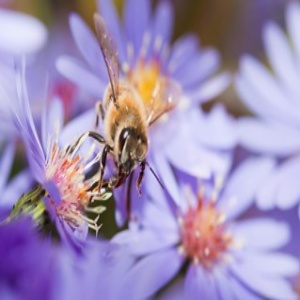bee: (87, 11, 181, 199)
